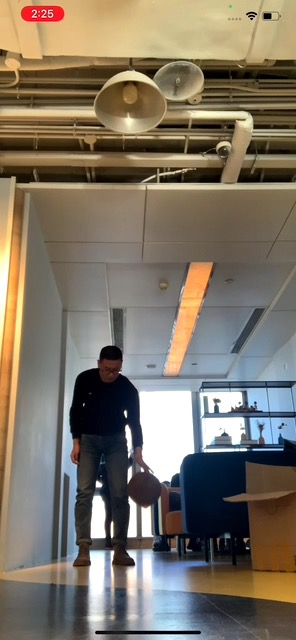ball: (128, 470, 162, 508)
